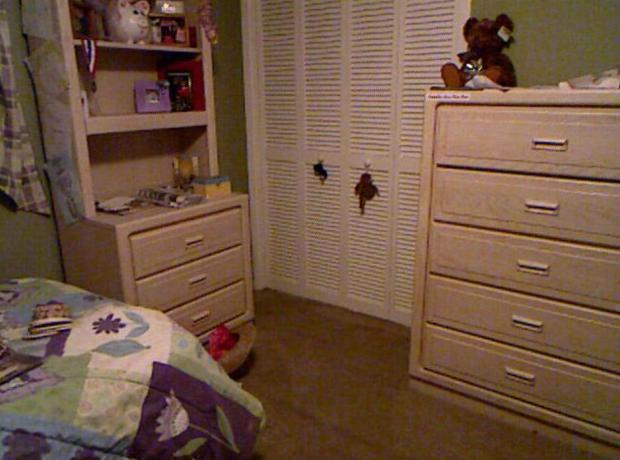Armario: (405, 84, 618, 447), (246, 5, 466, 337)
